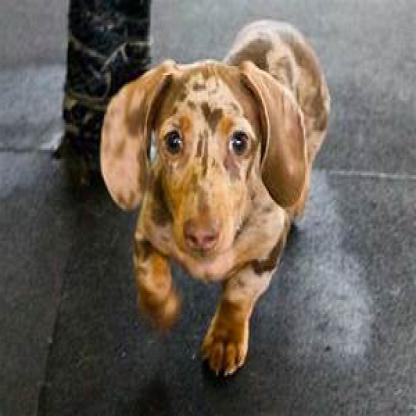dog: (98, 32, 337, 384)
